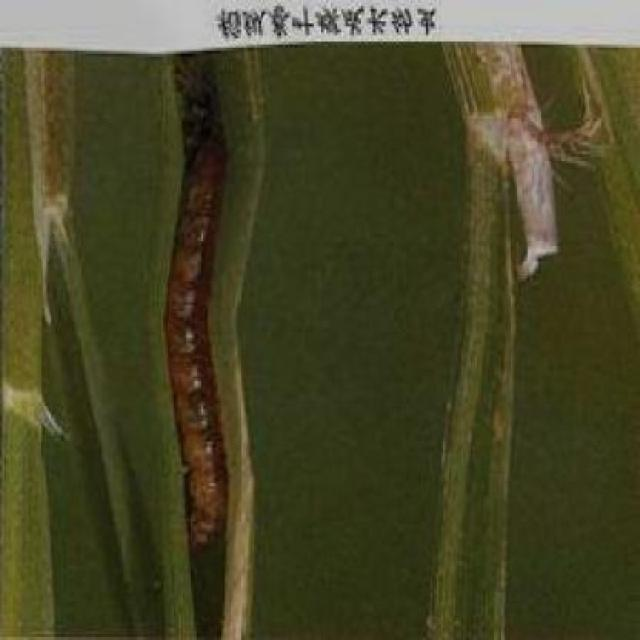leaf-folder: (145, 114, 284, 560)
